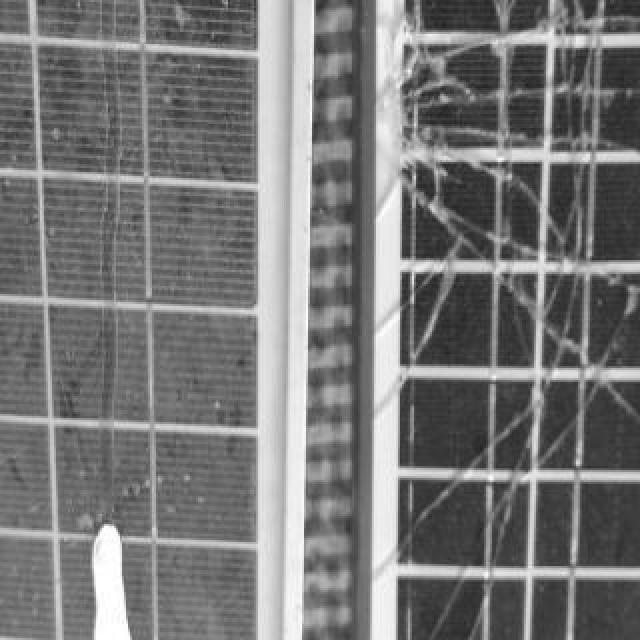Physical-damage: (414, 308, 613, 554), (400, 50, 602, 243)
